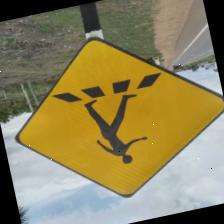crossing: (160, 22, 215, 70)
yellowboard: (0, 12, 224, 219)
